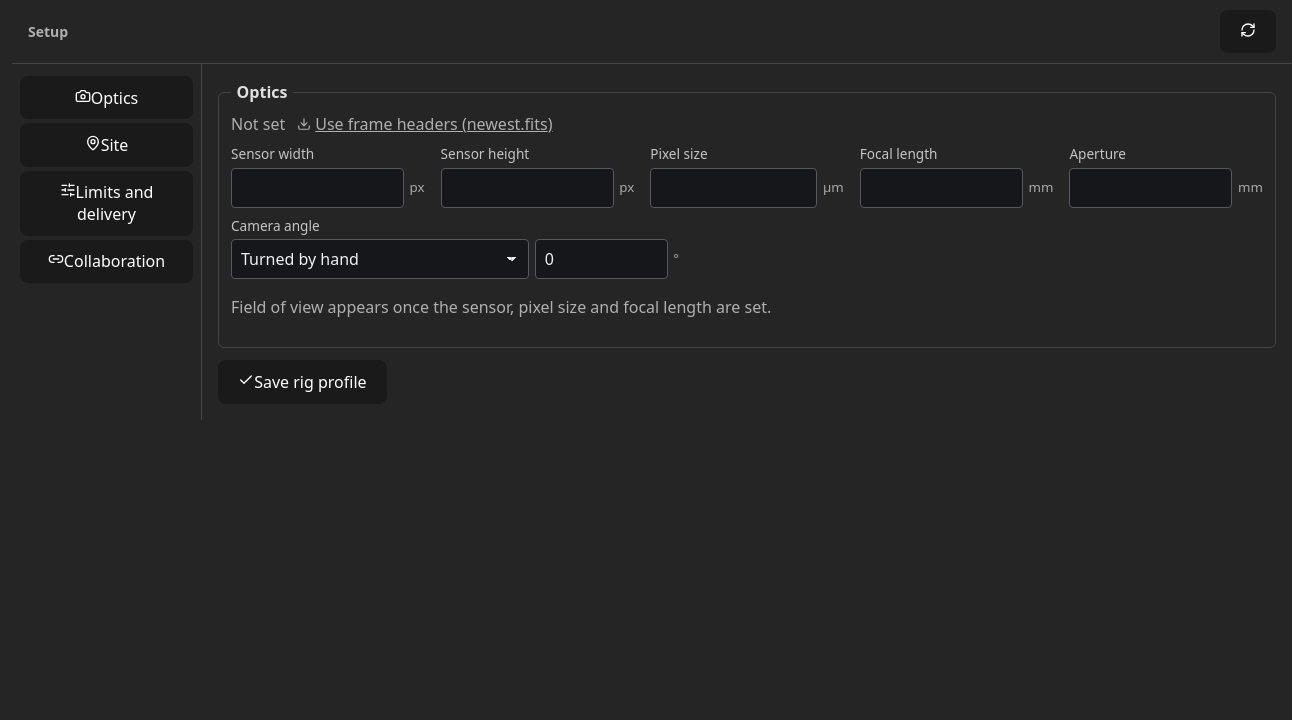
Test: Rig profile card › refuses a half-filled form before sending and stops after a lost race
Check: the button "Save rig profile" is shown, box [218, 360, 387, 404]
Step 1. Type "250" into the number field labelled "Focal length" → [941, 188], box [860, 168, 1023, 208]
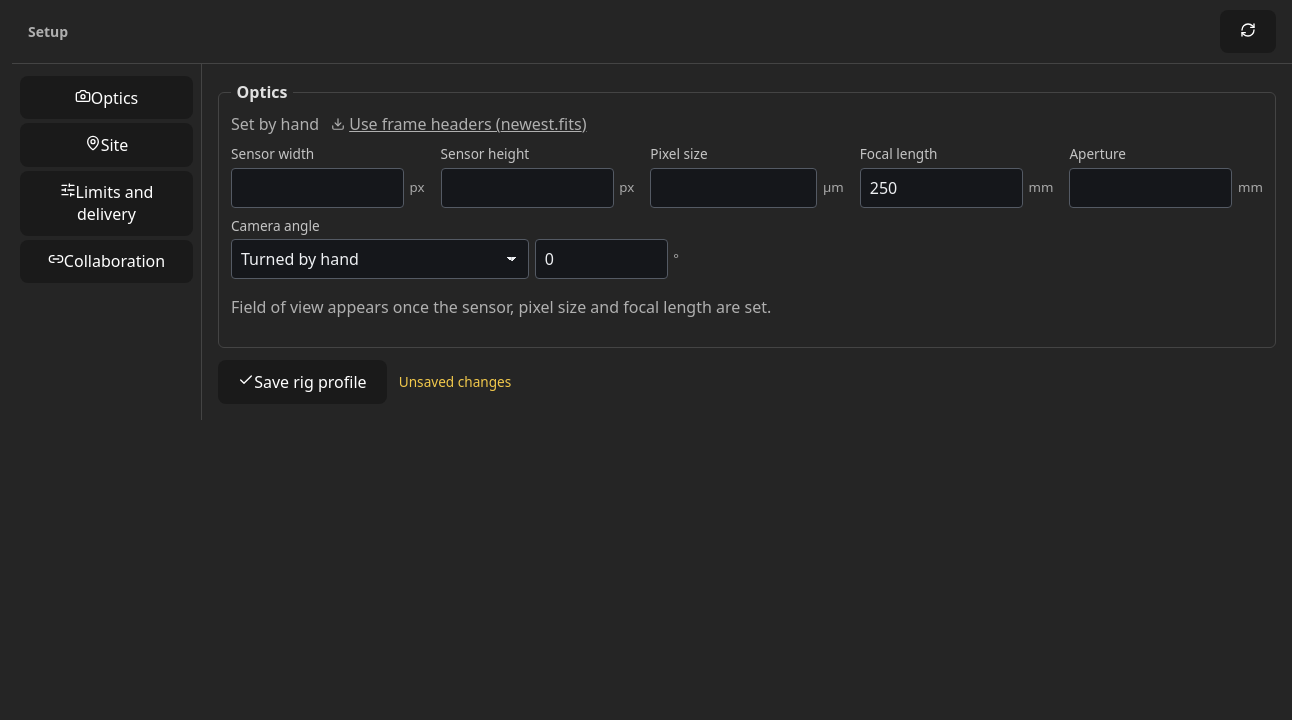
Step 2. Click the button "Save rig profile" → [302, 382], box [218, 360, 387, 404]
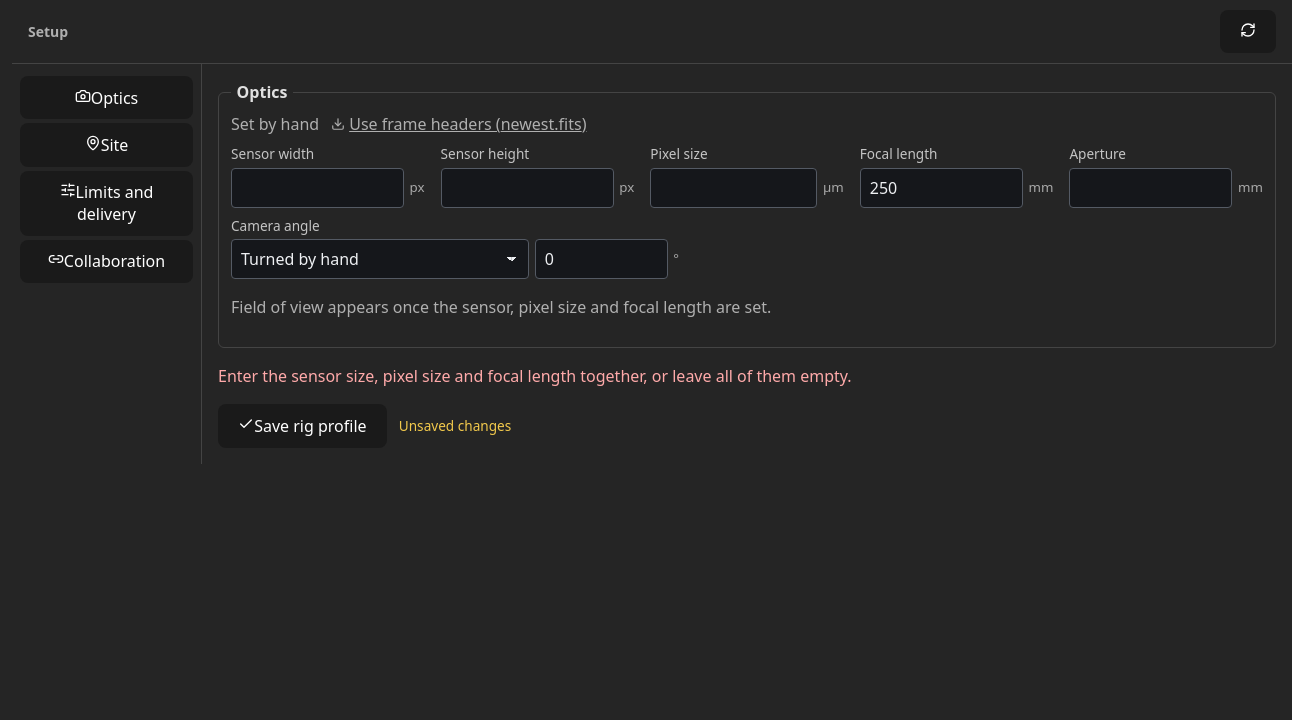
Check: the message shows "sensor size, pixel size and focal length together", box [218, 365, 852, 387]
Step 3. Clear the number field labelled "Focal length" → [941, 188], box [860, 168, 1023, 208]
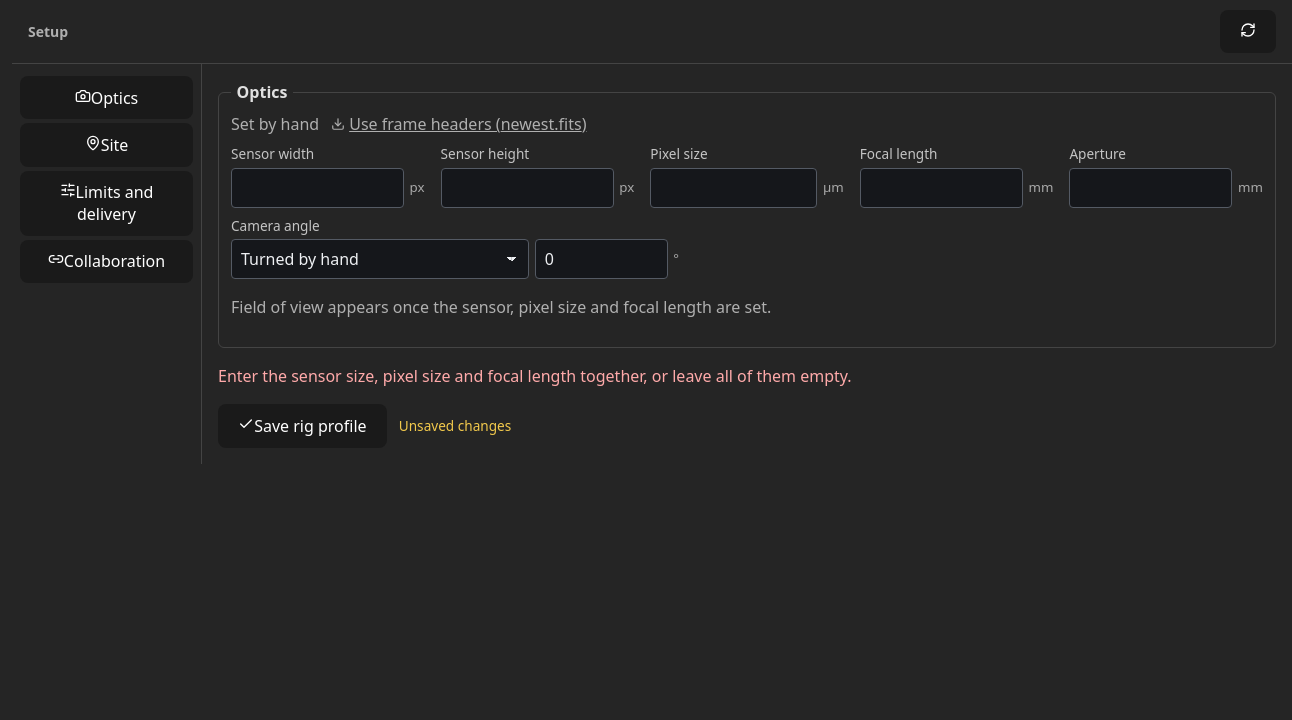
Step 4. Click the button "Save rig profile" → [302, 426], box [218, 404, 387, 448]
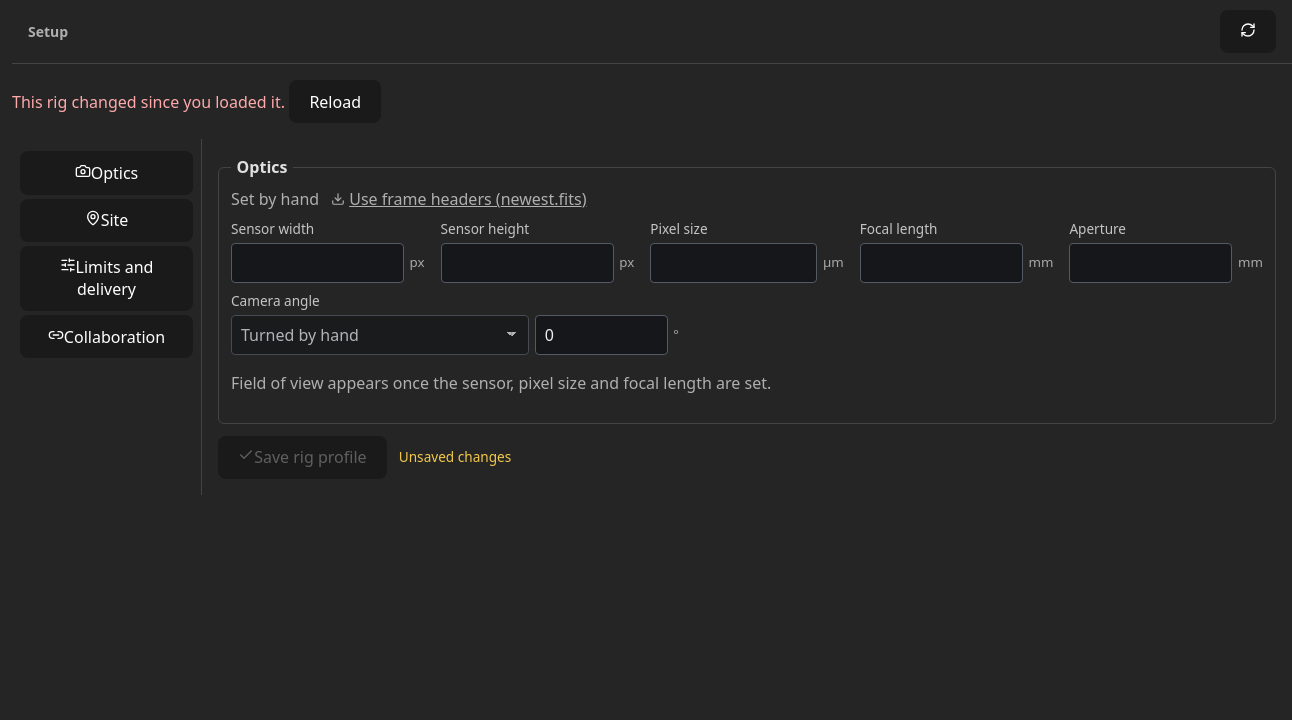
Check: the message shows "This rig changed since you loaded it", box [12, 91, 289, 113]
Check: the button "Save rig profile" is disabled, box [218, 436, 387, 479]
